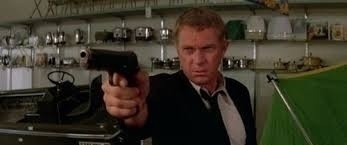pistol: (76, 45, 146, 87)
